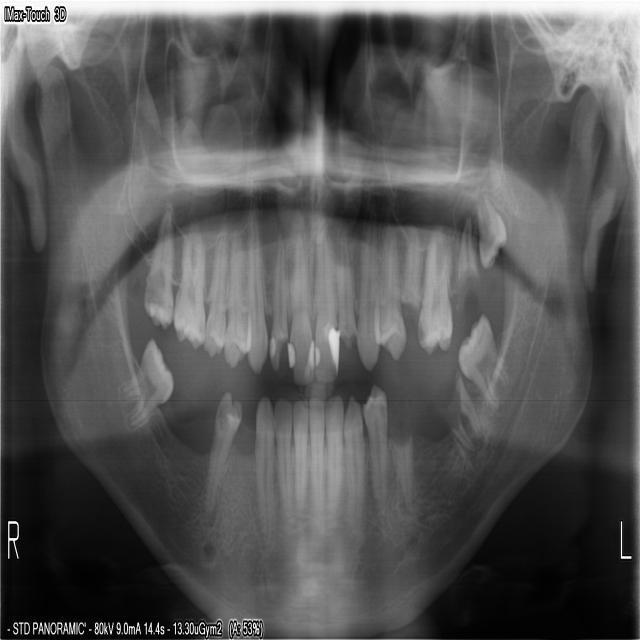LCD: (343, 390, 365, 525)
LCU: (358, 219, 381, 375)
LID: (325, 389, 344, 533), (308, 395, 324, 524)
LIU: (314, 220, 340, 387), (336, 227, 356, 352)
LMD: (454, 305, 508, 413), (441, 372, 479, 452)
LMU: (415, 232, 452, 360), (478, 185, 509, 274), (455, 215, 479, 307)
LPMD: (361, 383, 387, 509), (392, 424, 416, 505)
LPMU: (372, 223, 407, 360), (398, 223, 422, 323)
RCD: (256, 387, 276, 539)
RCU: (247, 215, 267, 380)
RID: (275, 398, 296, 525), (292, 398, 309, 519)
RIU: (289, 215, 314, 388), (269, 218, 289, 379)
RMD: (118, 338, 176, 428)
RMU: (171, 222, 206, 352), (142, 205, 176, 330)
RPMD: (202, 387, 243, 519)
RPMU: (222, 219, 249, 369), (203, 228, 227, 354)
